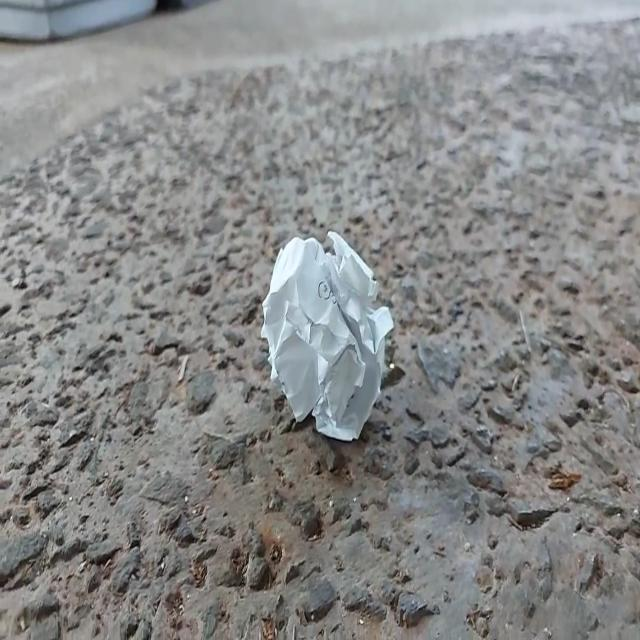Paper: (251, 215, 410, 458)
